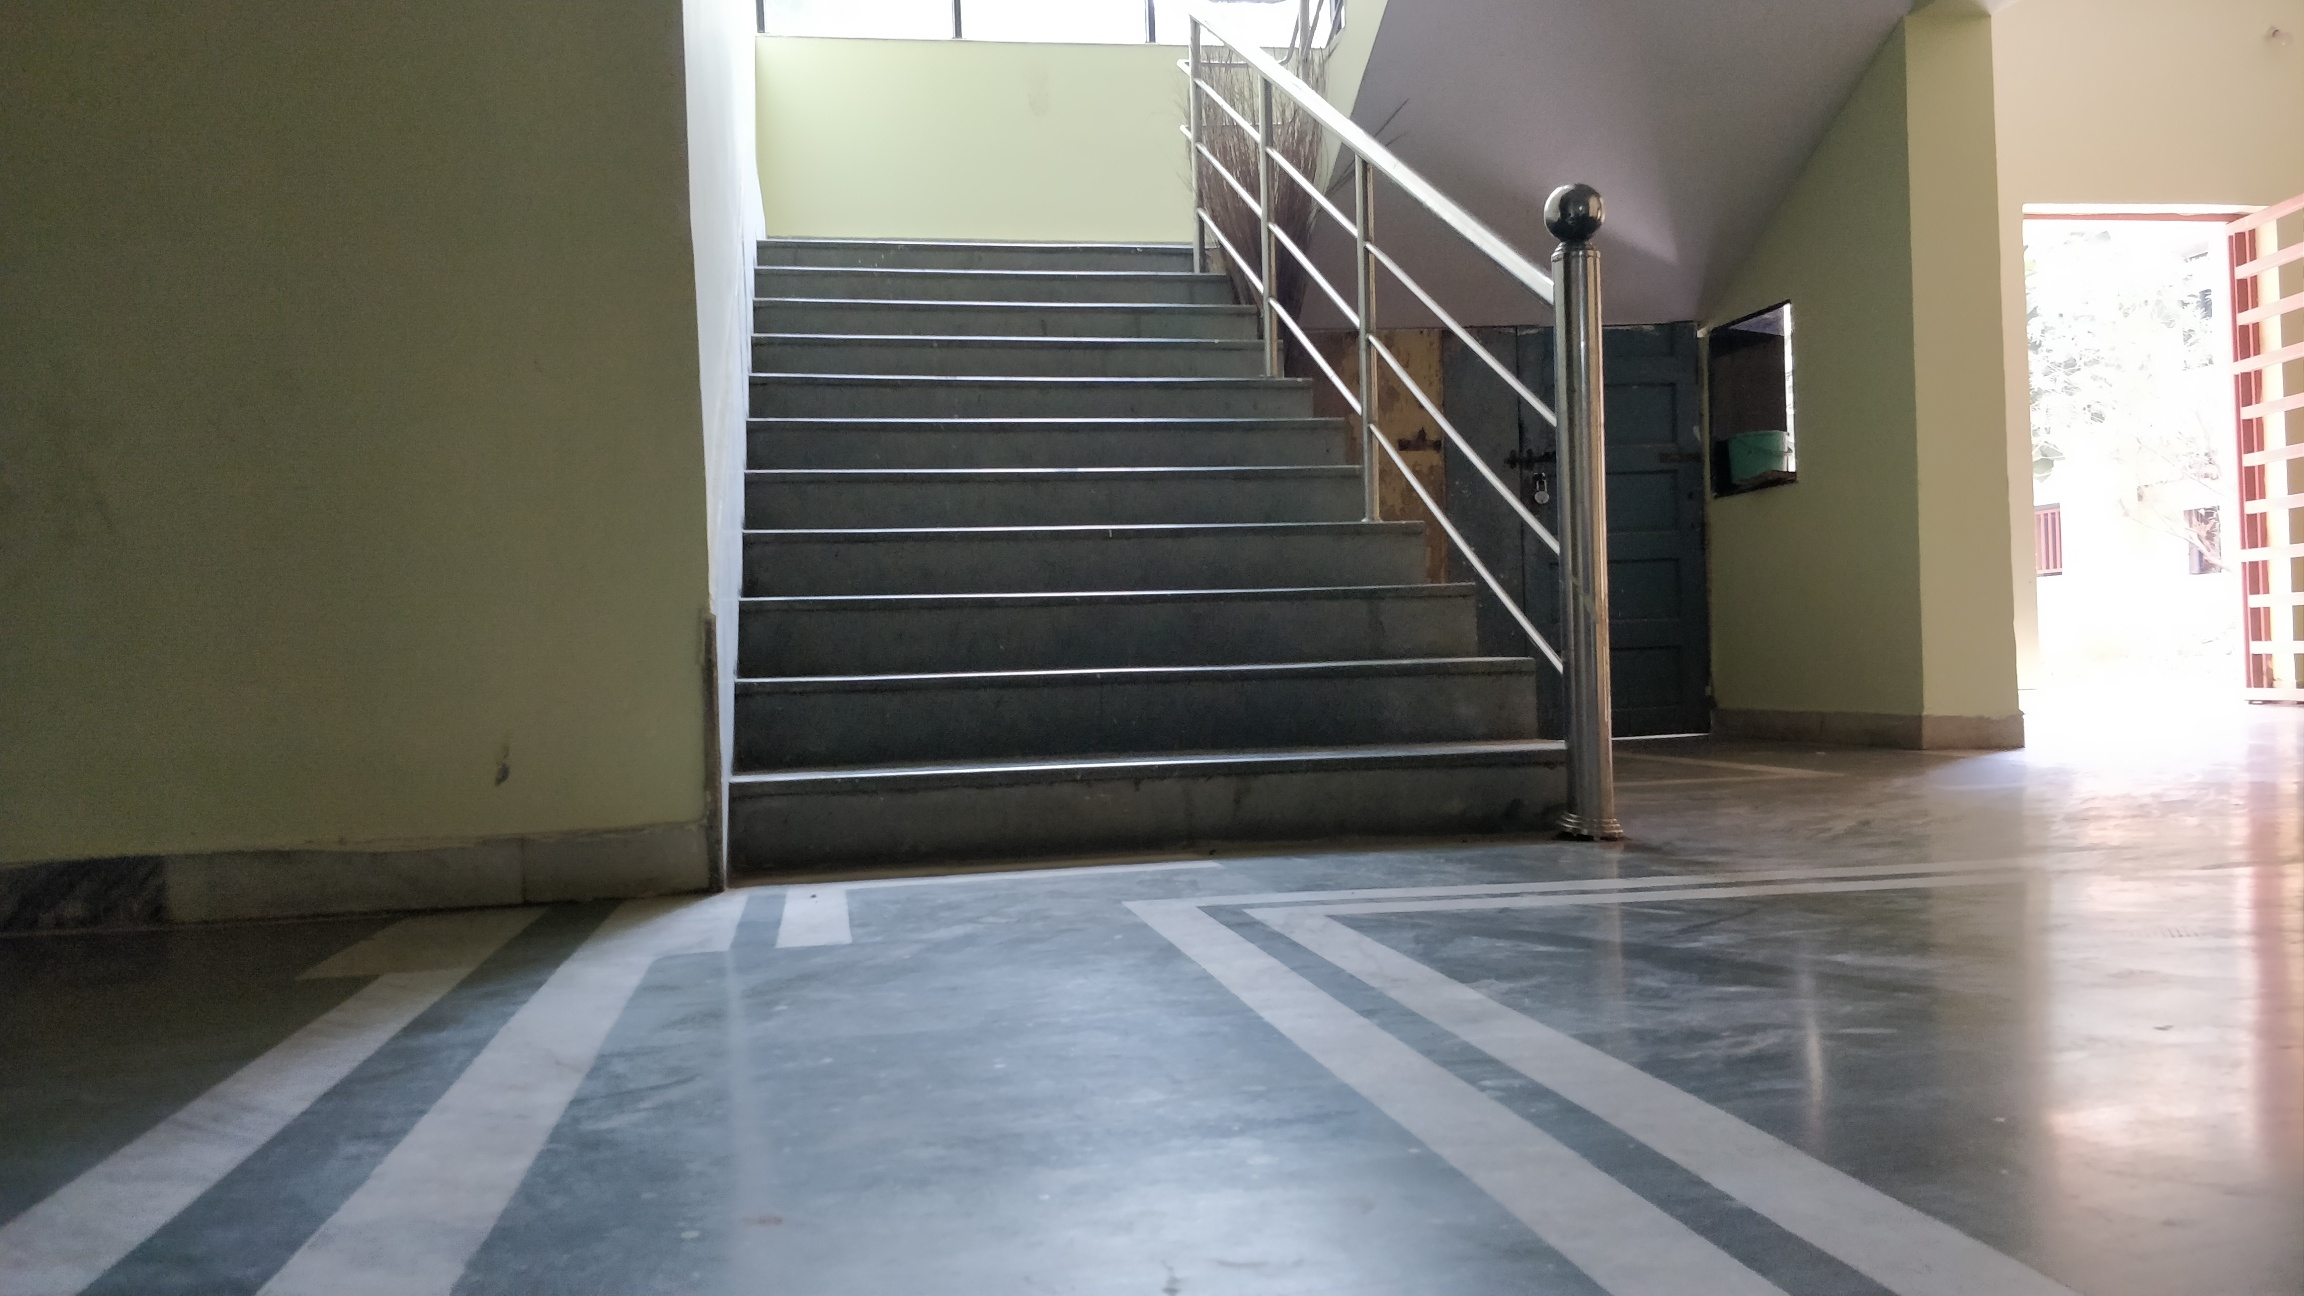stairs_up: (753, 239, 1497, 840)
